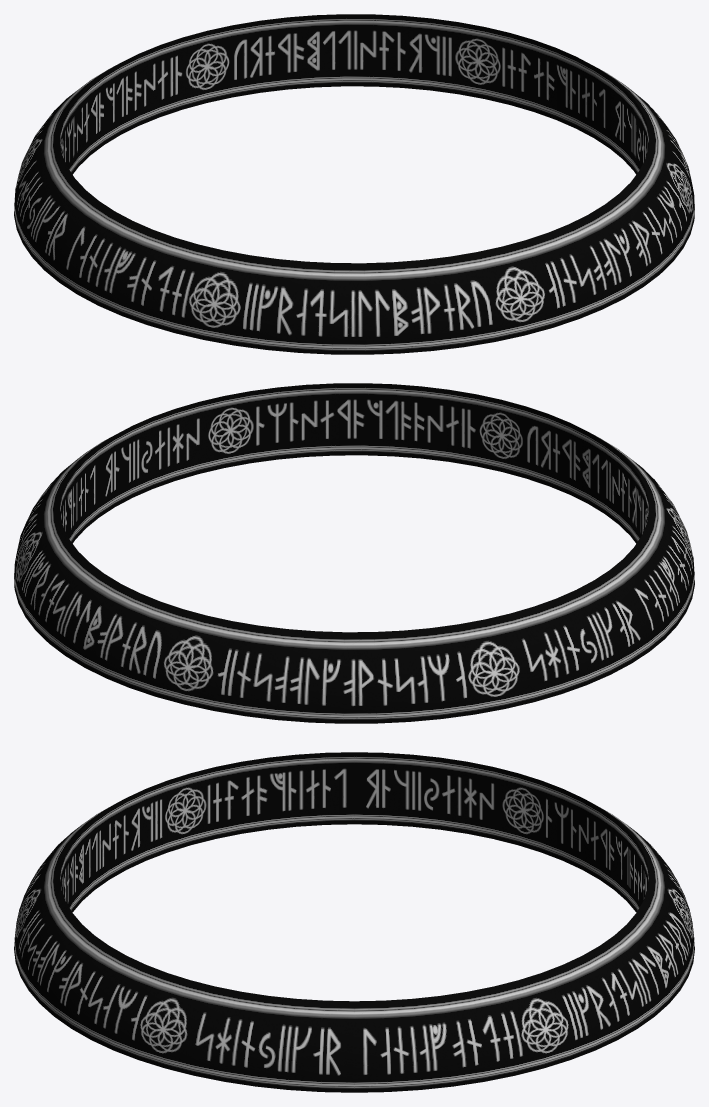
File: Magic_Circles.fbx
3 views of the same model, one above another, from view 1: azimuth 30°, elevation 25°; view 2: azimuth 150°, elevation 25°; view 3: azimuth 270°, elevation 25° (orthographic).
Parts seen in each view (by area): view 1: Magic_Circle_Cone_B, Magic_Circle_Plain; view 2: Magic_Circle_Cone_B, Magic_Circle_Plain; view 3: Magic_Circle_Cone_B, Magic_Circle_Plain.
Part boxes in pixels (x1,y1,x2,y2): Magic_Circle_Cone_B: [14, 63, 694, 354]; Magic_Circle_Plain: [60, 14, 648, 174]; Magic_Circle_Cone_B: [14, 432, 694, 723]; Magic_Circle_Plain: [60, 383, 648, 543]; Magic_Circle_Cone_B: [14, 800, 694, 1092]; Magic_Circle_Plain: [60, 752, 648, 912].
Bounding box in the file's own units: 229 × 26.79 × 229.
